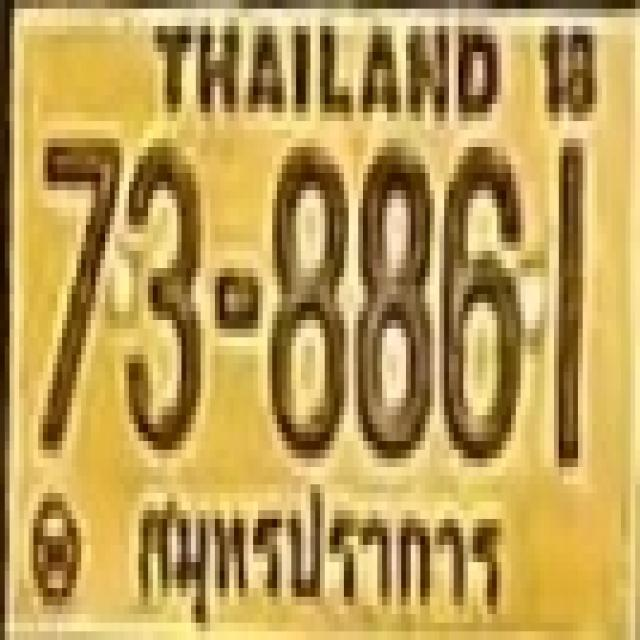1: (552, 134, 580, 463), (552, 138, 580, 458)
3: (122, 138, 198, 450)
6: (440, 138, 520, 458)
7: (39, 130, 120, 450)
8: (267, 138, 344, 450), (353, 143, 430, 454)
SPK: (124, 473, 517, 640)
